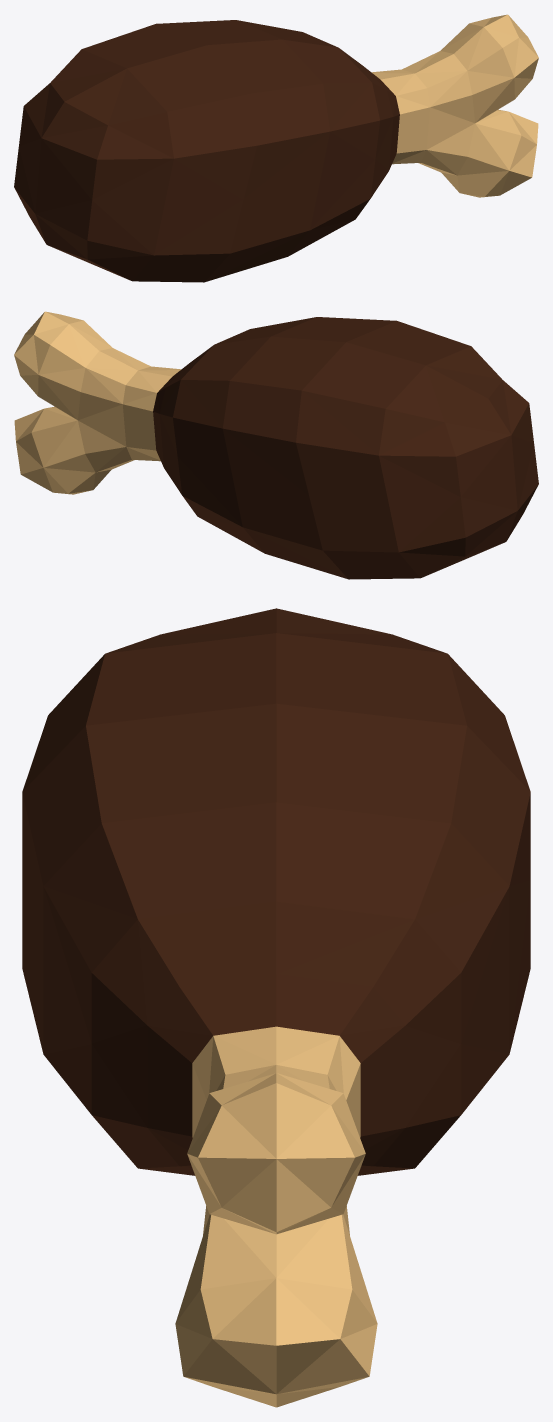
File: ChickenLeg.obj
3 renders of one model, top to bottom at view 1: azimuth 30°, elevation 25°; view 2: azimuth 150°, elevation 25°; view 3: azimuth 270°, elevation 25°, orthographic. The views are drawn at different scales.
Parts seen in each view (by area): view 1: ChickenLeg_DarkBrown, ChickenLeg_Beige; view 2: ChickenLeg_DarkBrown, ChickenLeg_Beige; view 3: ChickenLeg_DarkBrown, ChickenLeg_Beige.
Part boxes in pixels (bbox=[...]): ChickenLeg_DarkBrown: bbox=[14, 20, 399, 282]; ChickenLeg_Beige: bbox=[372, 14, 538, 197]; ChickenLeg_DarkBrown: bbox=[153, 317, 538, 579]; ChickenLeg_Beige: bbox=[14, 311, 180, 494]; ChickenLeg_DarkBrown: bbox=[22, 608, 530, 1175]; ChickenLeg_Beige: bbox=[175, 1026, 377, 1407].
Bounding box in the file's own units: 1.4 × 0.5815 × 0.6119.
